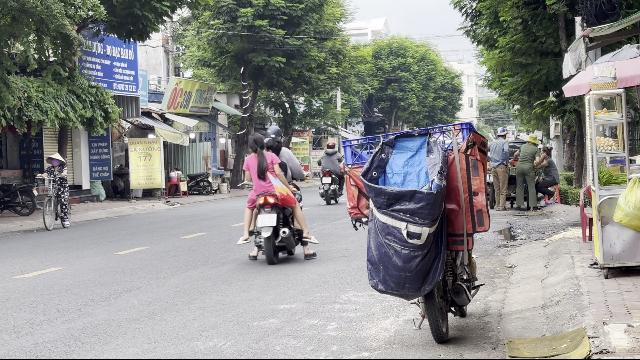helmet: (263, 126, 283, 146)
licenseplate: (258, 214, 276, 227)
motorcyclist: (238, 126, 314, 264)
nohelmet: (246, 132, 264, 152)
